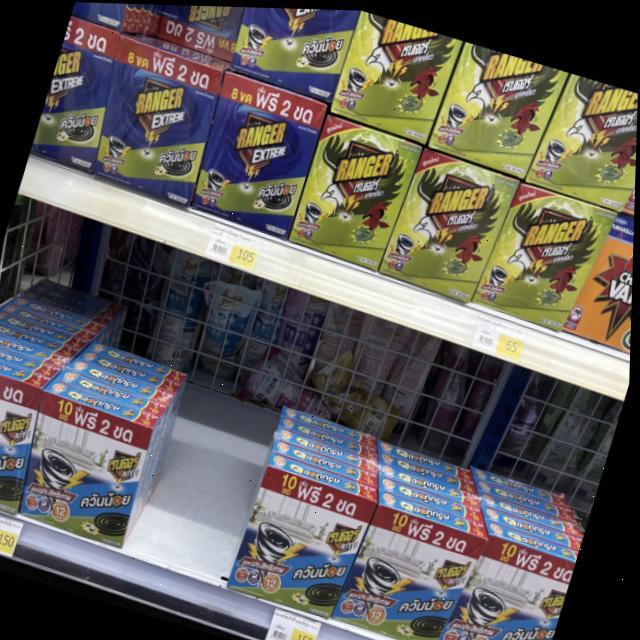empty_shelf: (269, 299, 623, 556), (126, 263, 322, 582), (0, 191, 218, 426), (121, 4, 242, 67)
